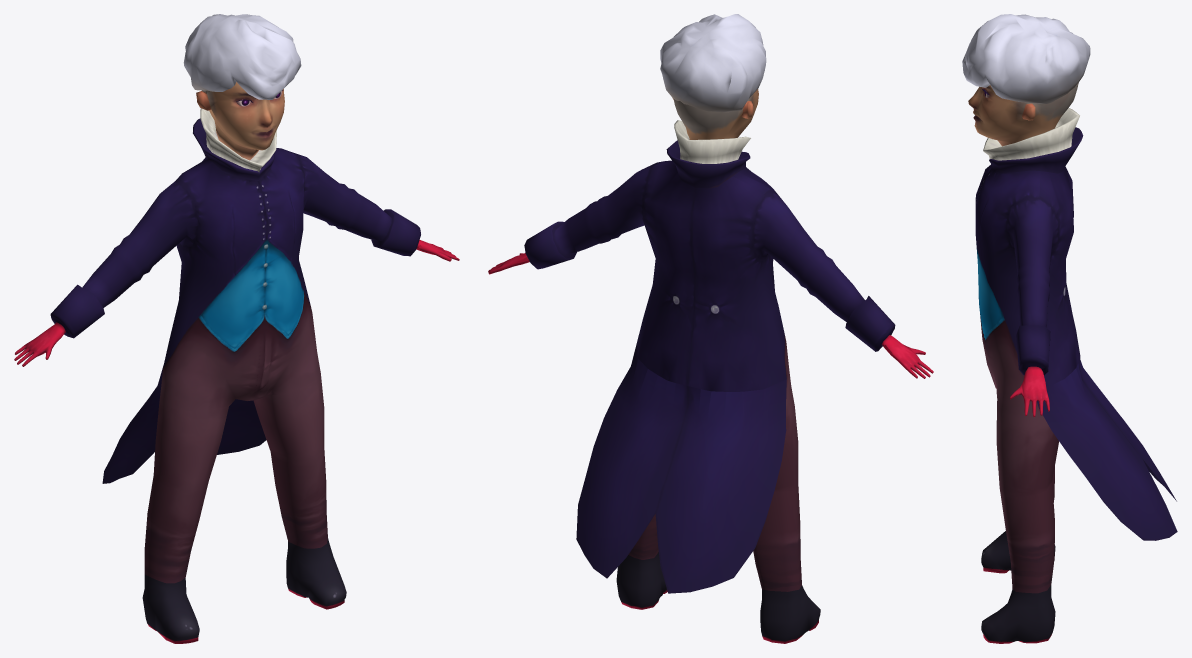
Rendered from MagicianMan.fbx.
3 renders of one model, left to right at view 1: azimuth 30°, elevation 25°; view 2: azimuth 150°, elevation 25°; view 3: azimuth 270°, elevation 25°, orthographic.
Visible parts, largest first — view 1: bodyWhole, SculpHair; view 2: bodyWhole, SculpHair; view 3: bodyWhole, SculpHair.
Boxes of the visible parts, x1,y1,x2,y2 form: bodyWhole: (14,82,459,643); SculpHair: (183,14,301,99); bodyWhole: (488,89,933,643); SculpHair: (660,14,766,112); bodyWhole: (968,83,1177,643); SculpHair: (962,14,1090,103).
Size of the model in its own units: 218 by 282 by 94.07.
Materials: 3 (3 with a texture image).
